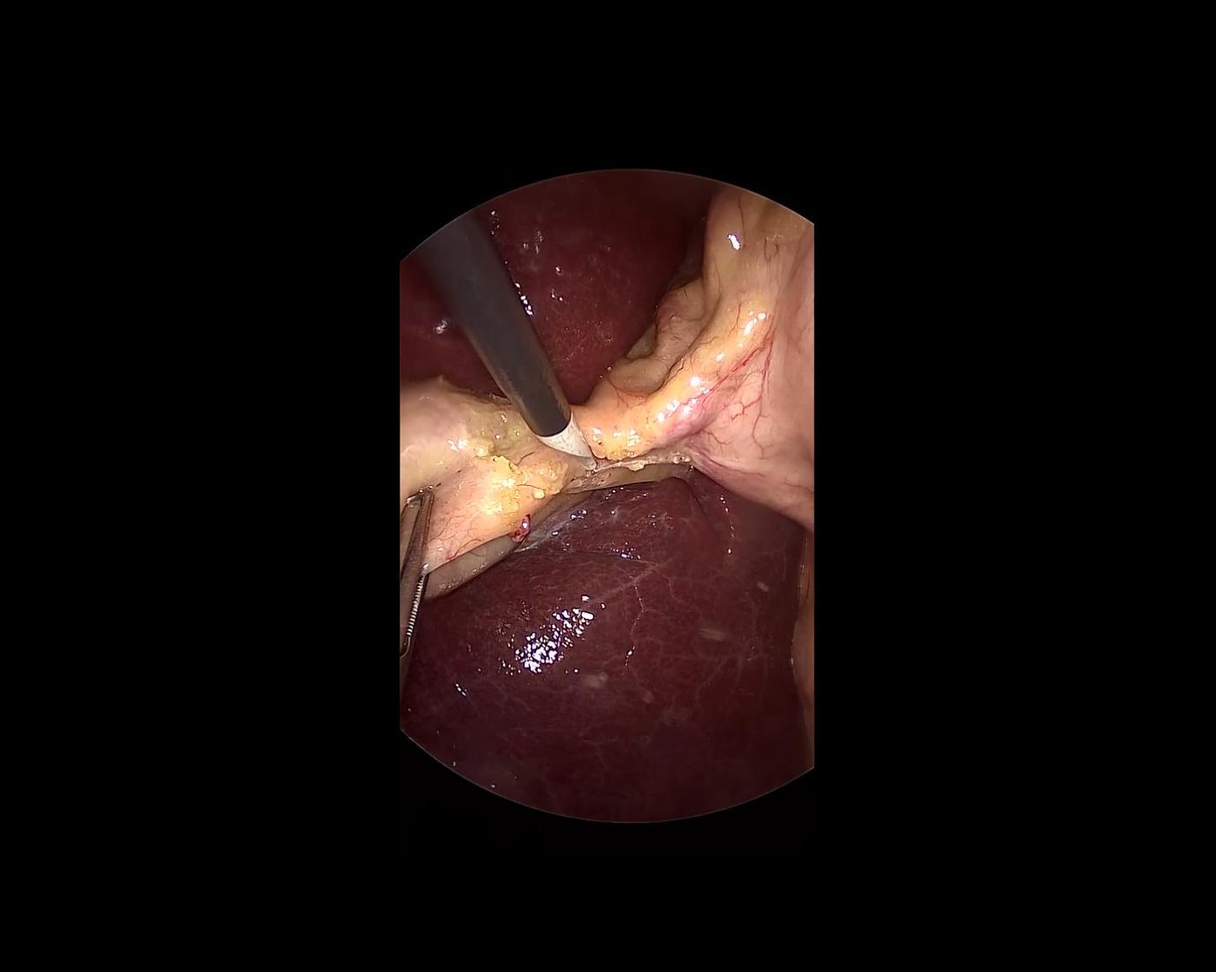Cautery: (411, 211, 603, 504)
Forceps: (401, 488, 436, 697)
Gallbladder: (394, 369, 608, 600)
Liver: (403, 472, 808, 822), (420, 100, 712, 419), (357, 249, 500, 429)
